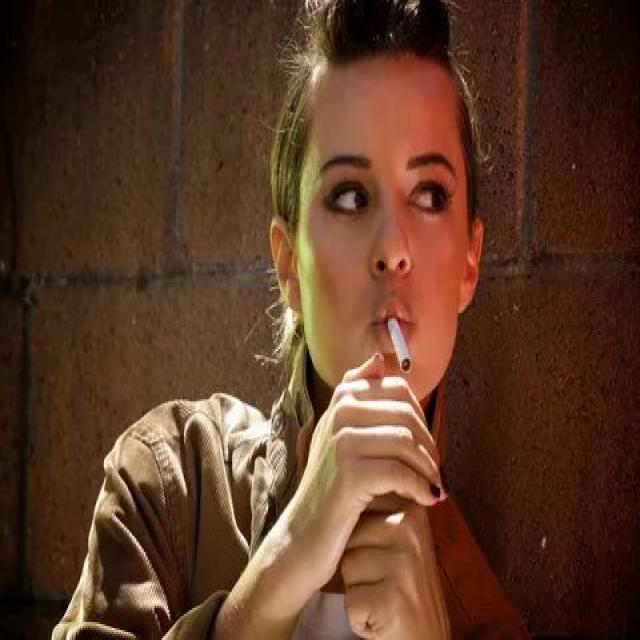cigarette: (385, 313, 416, 375)
